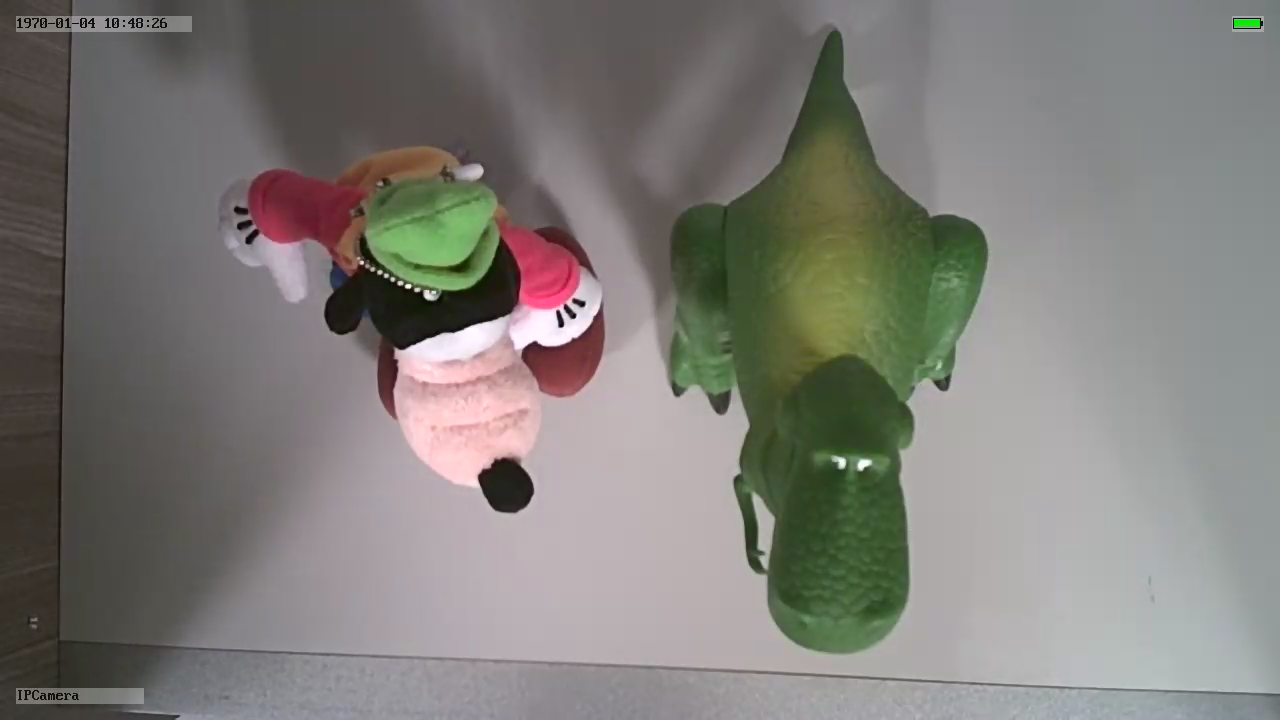goofy: (212, 141, 607, 518)
